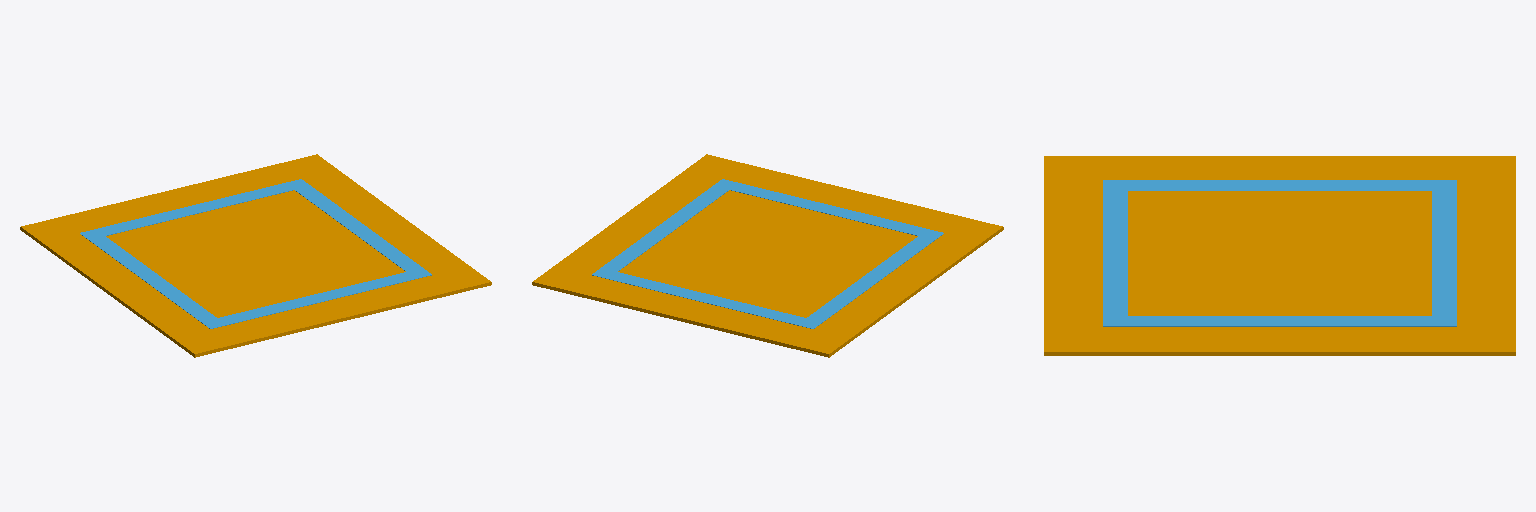
robot.urdf — carpet_square:
<?xml version="1.0"?>
<robot name="carpet_square">
  <link name="carpet">
    <inertial>
        <origin rpy="0 0 0" xyz="0 0 0"/>
        <mass value="0"/>
        <inertia ixx="4.4e-5" ixy="0" ixz="0" iyy="0" iyz="0" izz="4.4e-5"/>
    </inertial>
    <visual>
      <geometry>
        <mesh filename="carpet.obj"/>
      </geometry>
    </visual>
    <collision>
      <geometry>
        <mesh filename="carpet.obj"/>
      </geometry>
      <surface>
           <bounce restitution_coefficient = "0.1"/>
      </surface>
    </collision>
  </link>
  <link name="deco">
    <inertial>
        <origin rpy="0 0 0" xyz="0 0 0"/>
        <mass value="0"/>
        <inertia ixx="4.4e-5" ixy="0" ixz="0" iyy="0" iyz="0" izz="4.4e-5"/>
    </inertial>
    <visual>
      <geometry>
        <mesh filename="deco.obj"/>
      </geometry>
    </visual>
    <collision>
      <geometry>
        <mesh filename="deco.obj"/>
      </geometry>
      <surface>
           <bounce restitution_coefficient = "0.1"/>
      </surface>
    </collision>
  </link>
  <joint name="carpet_to_deco" type="fixed">
    <parent link="carpet"/>
    <child link="deco"/>
    <origin rpy="0 0 0" xyz="0 0 0.005"/>
  </joint>
</robot>

--- What the picture shows (computed from the rendered views, not written in the file) ---
The picture shows the robot from 3 angles, left to right: view 1: azimuth 30°, elevation 25°; view 2: azimuth 150°, elevation 25°; view 3: azimuth 270°, elevation 25°; orthographic projection.
Robot: carpet_square — 2 links, 1 joints (1 fixed); root link carpet; default pose: every joint at zero.
Links seen in each view (by area): view 1: carpet, deco; view 2: carpet, deco; view 3: carpet, deco.
Link boxes in pixels (box(x1,y1,x2,y2)): carpet: box(20, 154, 491, 357); deco: box(80, 179, 431, 328); carpet: box(532, 154, 1003, 357); deco: box(592, 179, 943, 328); carpet: box(1044, 156, 1515, 355); deco: box(1103, 180, 1456, 326).
Size in the robot's own frame: 0.9043 by 0.92 by 0.0109 metres.
Meshes: 2 distinct files referenced, 2 mesh visuals loaded (2 OBJ).